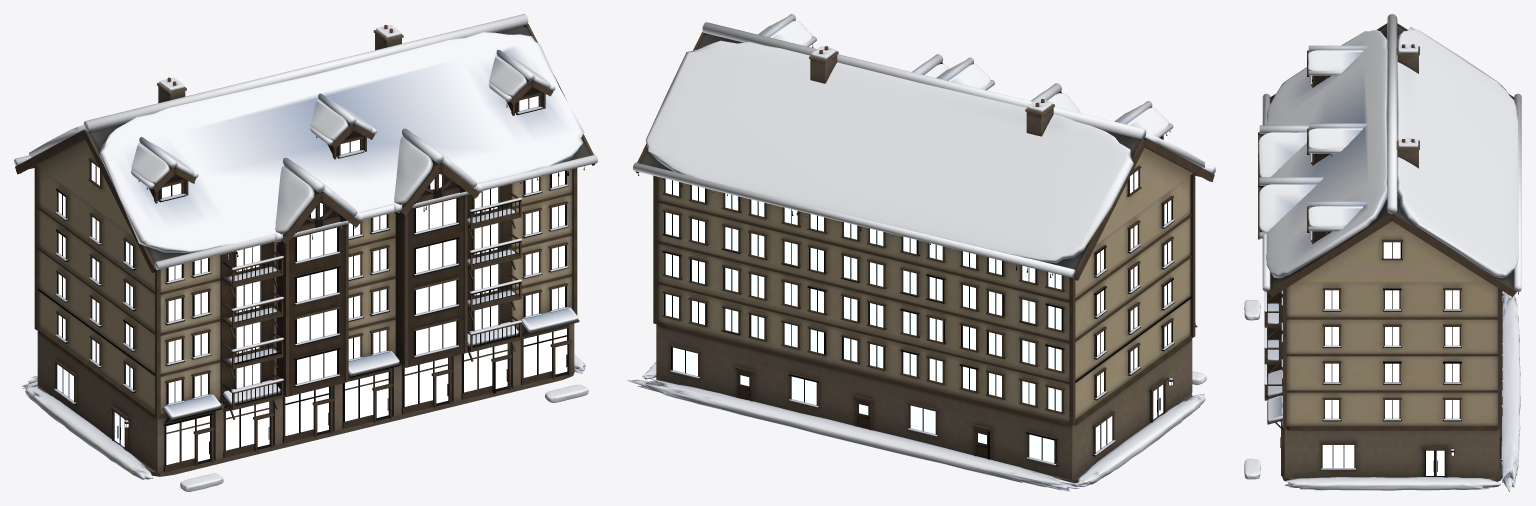
Rendered from village_block_solitude.glb.
The picture shows the model from 3 angles, left to right: view 1: azimuth 30°, elevation 25°; view 2: azimuth 150°, elevation 25°; view 3: azimuth 270°, elevation 25°; orthographic projection. The views are drawn at different scales.
Parts seen in each view (by area): view 1: village_block_solitude, village_block_solitude_snow, village_block_solitude_lit; view 2: village_block_solitude, village_block_solitude_snow, village_block_solitude_lit; view 3: village_block_solitude_snow, village_block_solitude, village_block_solitude_lit.
Part boxes in pixels (x1,y1,x2,y2): village_block_solitude: (15, 24, 595, 476); village_block_solitude_snow: (14, 14, 597, 491); village_block_solitude_lit: (57, 96, 567, 464); village_block_solitude: (635, 20, 1214, 483); village_block_solitude_snow: (626, 14, 1215, 491); village_block_solitude_lit: (665, 170, 1171, 462); village_block_solitude_snow: (1244, 14, 1521, 491); village_block_solitude: (1258, 23, 1518, 481); village_block_solitude_lit: (1322, 242, 1459, 475).
Bounding box in the file's own units: 35.35 × 24.21 × 20.64.
5 materials, 1 textured.
